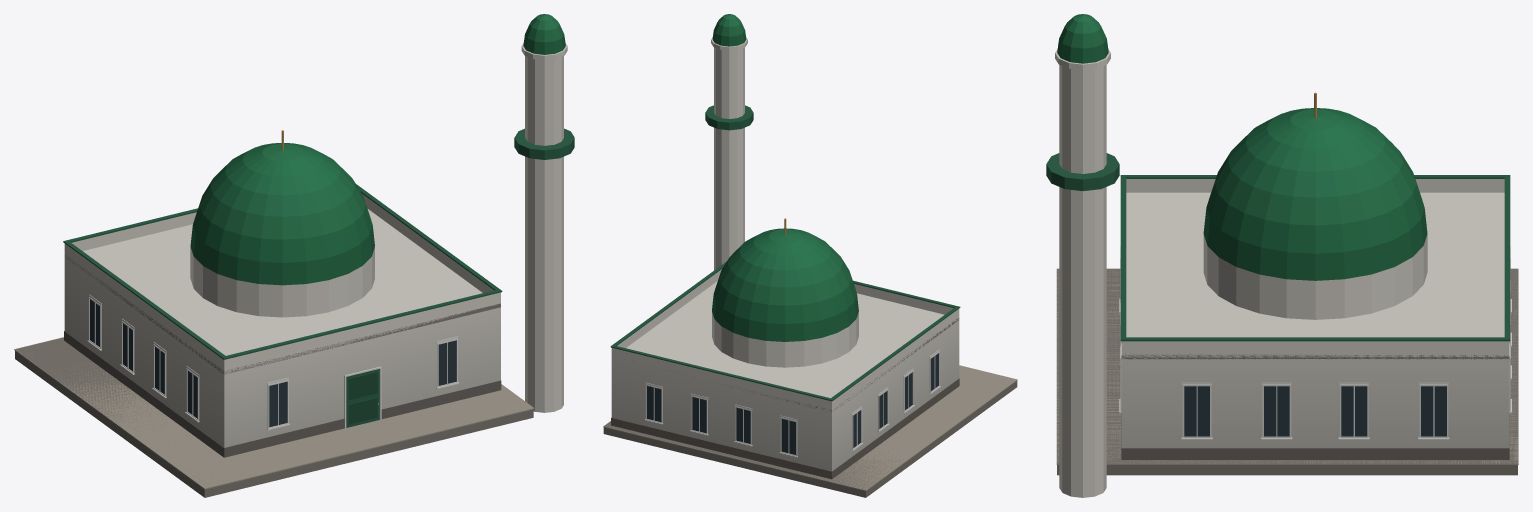
Rendered from ns_mosque.glb.
The picture shows the model from 3 angles, left to right: view 1: azimuth 30°, elevation 25°; view 2: azimuth 150°, elevation 25°; view 3: azimuth 270°, elevation 25°; orthographic projection. The views are drawn at different scales.
Visible parts, largest first — view 1: ns_mosque; view 2: ns_mosque; view 3: ns_mosque.
Part boxes in pixels (x1,y1,x2,y2): ns_mosque: [14, 14, 574, 497]; ns_mosque: [603, 14, 1017, 497]; ns_mosque: [1046, 14, 1518, 497].
Size of the model in its own units: 24.53 by 24.22 by 21.93.
